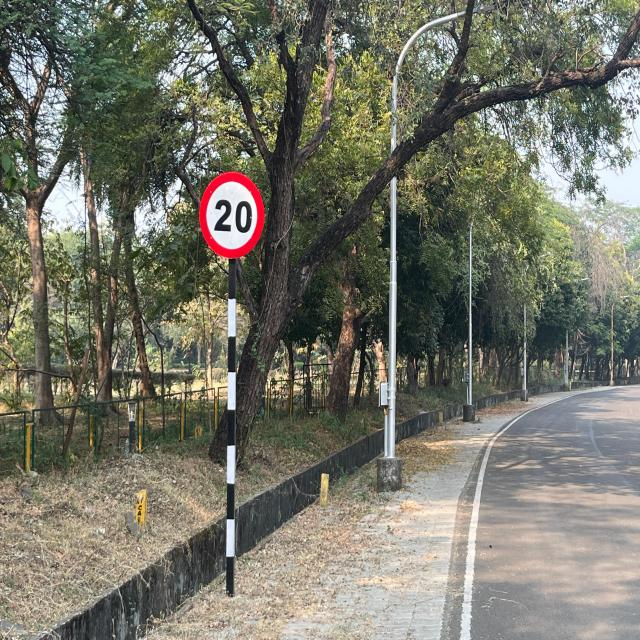forb_speed_over_20: (197, 169, 267, 258)
